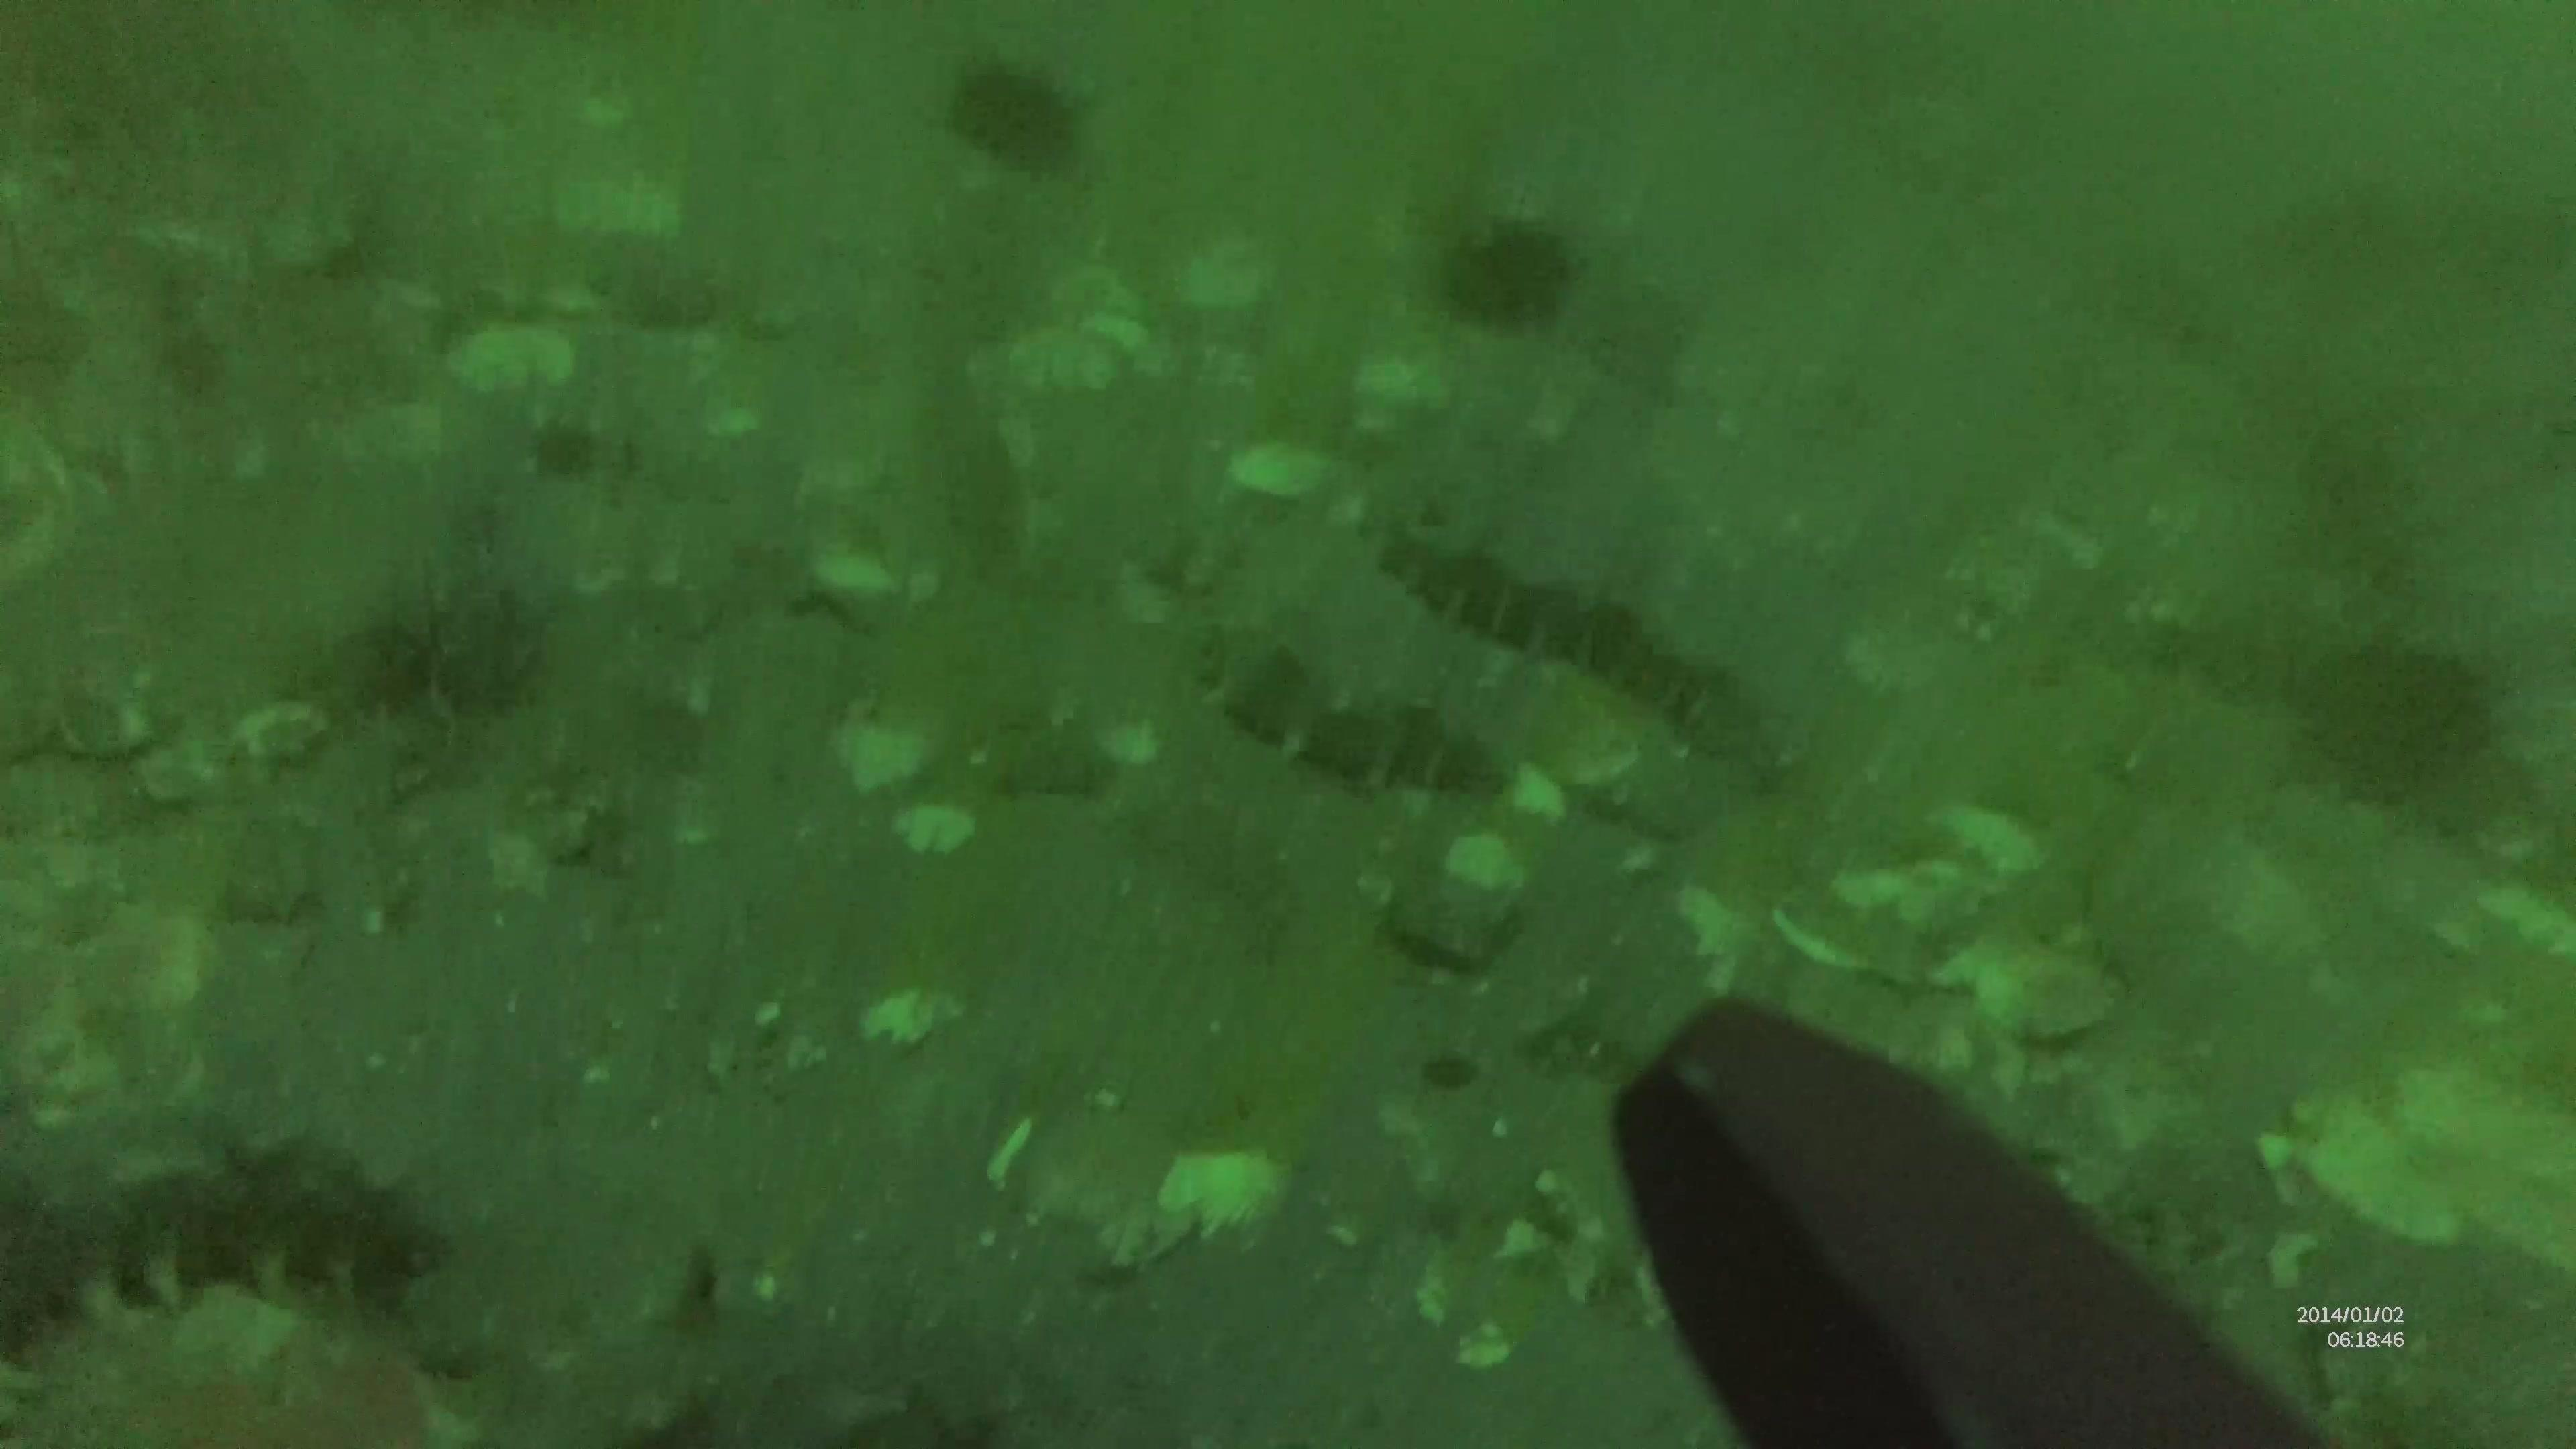echinus: (1438, 207, 1578, 333), (950, 64, 1081, 170)
holothurian: (7, 1131, 499, 1357), (1375, 525, 1736, 713), (1189, 628, 1490, 807)
scallop: (1224, 432, 1339, 506)
